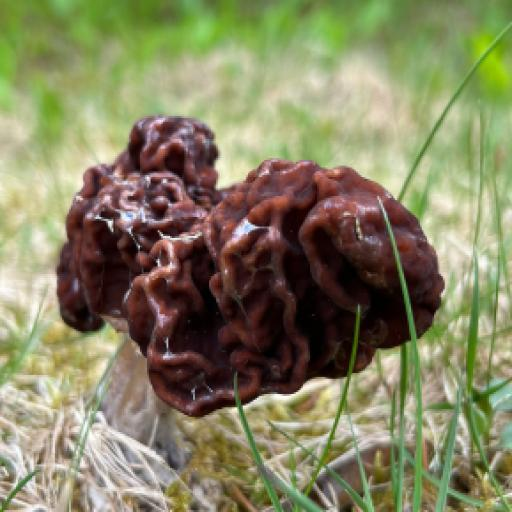mushroom: (51, 109, 446, 414)
